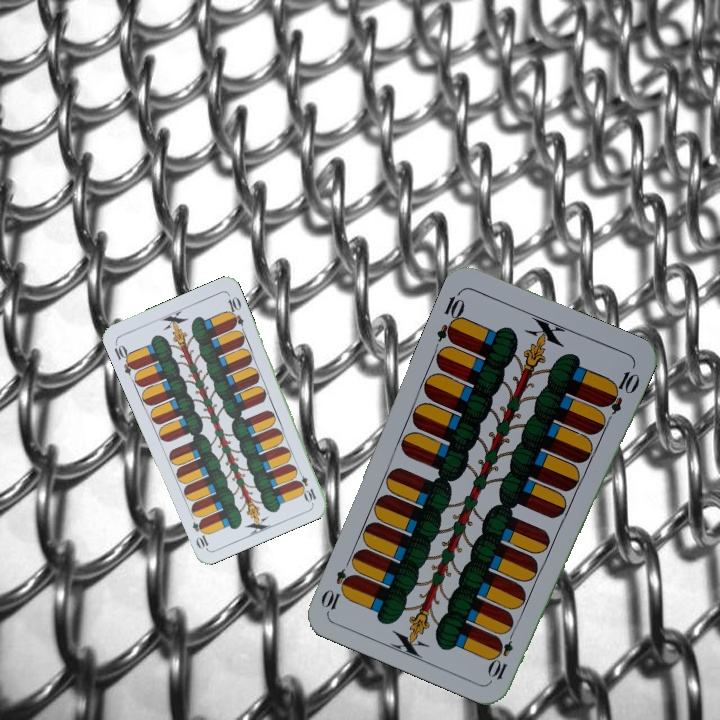E10: (432, 287, 468, 346), (486, 624, 518, 682), (110, 338, 139, 377), (293, 465, 319, 504)
